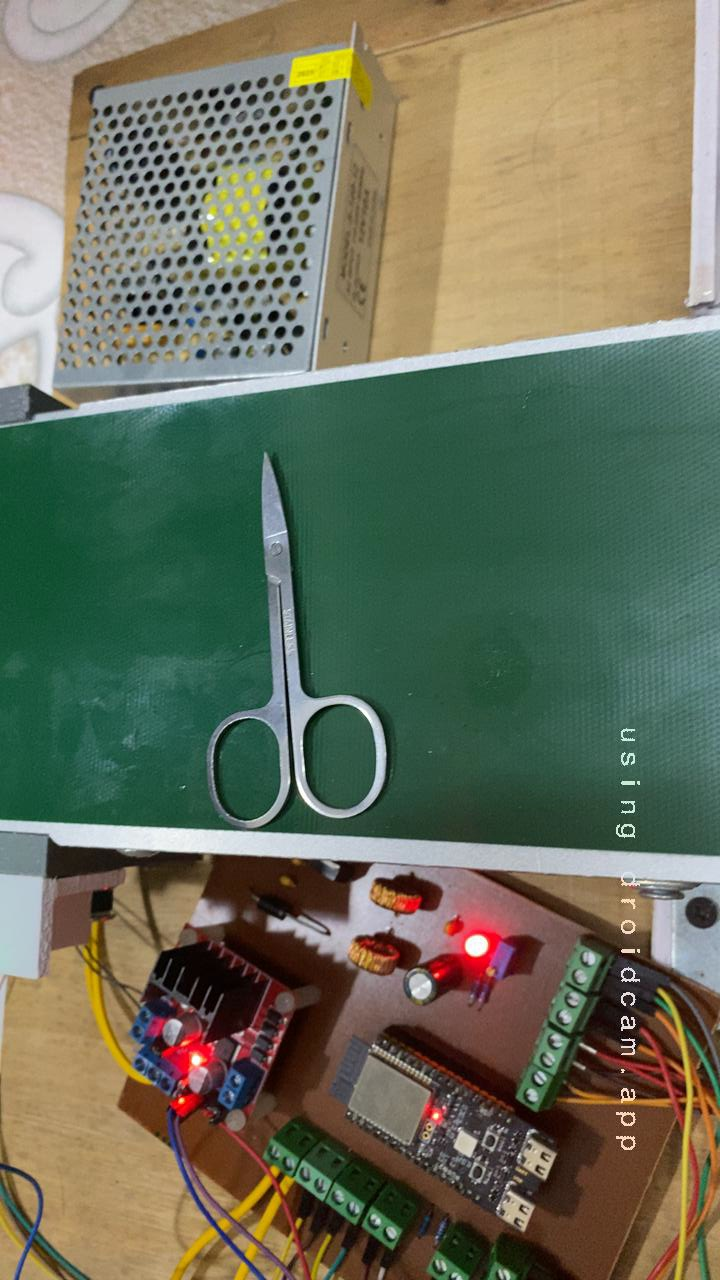scissor: (131, 436, 418, 851)
